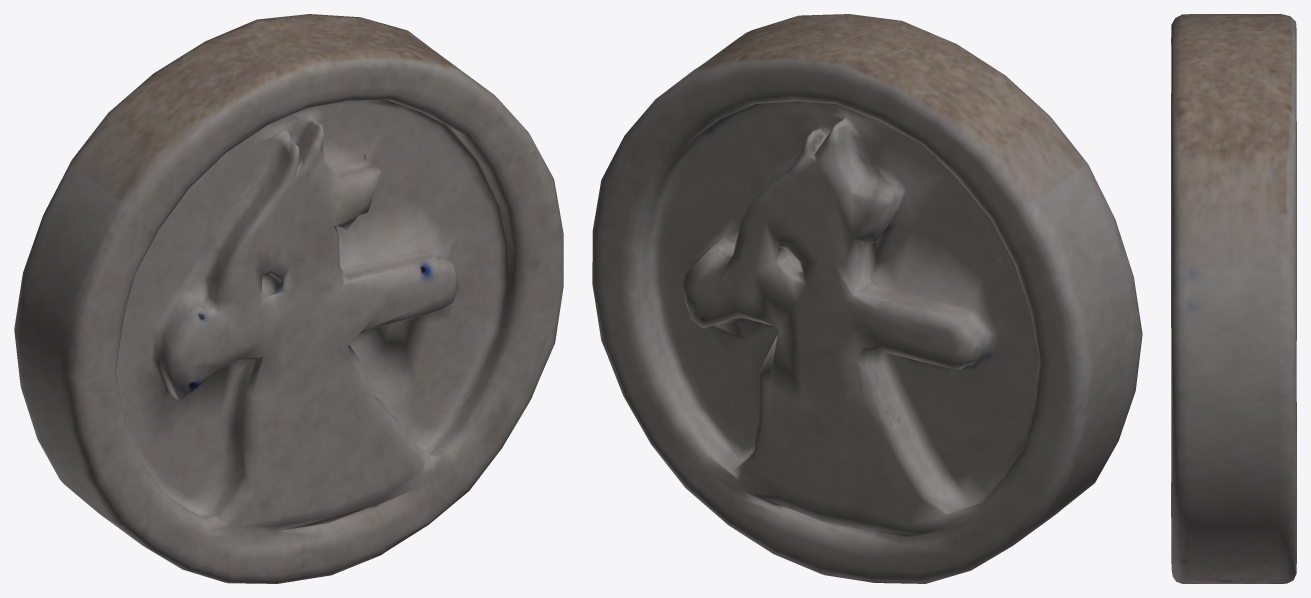
Rendered from coins-standard.glb.
3 renders of one model, left to right at view 1: azimuth 30°, elevation 25°; view 2: azimuth 150°, elevation 25°; view 3: azimuth 270°, elevation 25°, orthographic.
Visible parts, largest first — view 1: file1; view 2: file1; view 3: file1.
Boxes of the visible parts, x1,y1,x2,y2 form: file1: (14, 14, 563, 583); file1: (592, 14, 1142, 583); file1: (1171, 14, 1296, 583).
Size of the model in its own units: 1.98 by 1.99 by 0.4371.
Materials: 1 (1 with a texture image).
